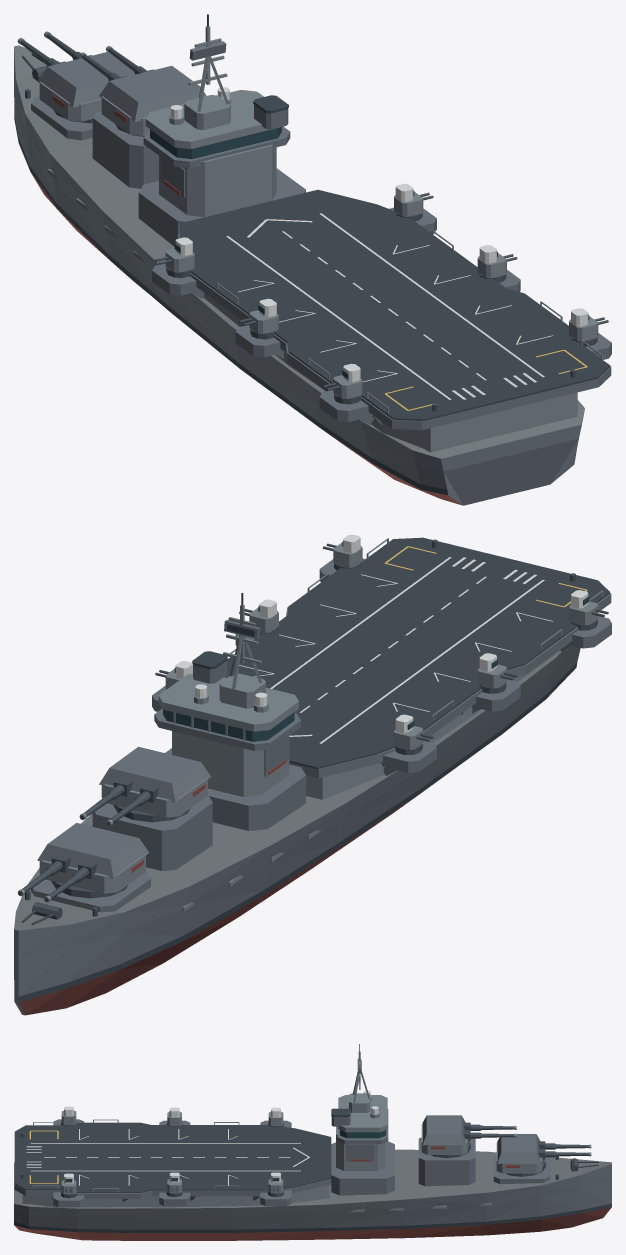
The model's file is EnemyHybridBoss.fbx.
3 renders of one model, top to bottom at view 1: azimuth 30°, elevation 25°; view 2: azimuth 150°, elevation 25°; view 3: azimuth 270°, elevation 25°, orthographic. The views are drawn at different scales.
Parts seen in each view (by area): view 1: FlightDeck_Mesh, Hull_Mesh, BridgeAssembly_Mesh, MainGun_02_Mesh, MainGun_01_Mesh, AA_Port_01_Mesh, AA_Port_02_Mesh, AA_Port_03_Mesh, AA_Starboard_01_Mesh, AA_Starboard_02_Mesh, AA_Starboard_03_Mesh; view 2: FlightDeck_Mesh, Hull_Mesh, BridgeAssembly_Mesh, MainGun_02_Mesh, MainGun_01_Mesh, MainGun_Elevation_01_Mesh, MainGun_Elevation_02_Mesh, AA_Port_02_Mesh, AA_Port_01_Mesh, AA_Port_03_Mesh, AA_Starboard_03_Mesh, AA_Starboard_02_Mesh; view 3: Hull_Mesh, FlightDeck_Mesh, BridgeAssembly_Mesh, MainGun_02_Mesh, MainGun_01_Mesh, MainGun_Elevation_01_Mesh, MainGun_Elevation_02_Mesh, AA_Starboard_03_Mesh, AA_Starboard_01_Mesh, AA_Starboard_02_Mesh.
Part boxes in pixels (x1=…): FlightDeck_Mesh: x1=152, y1=189, x2=611, y2=452; Hull_Mesh: x1=14, y1=45, x2=584, y2=505; BridgeAssembly_Mesh: x1=138, y1=14, x2=305, y2=246; MainGun_02_Mesh: x1=99, y1=66, x2=206, y2=135; MainGun_01_Mesh: x1=37, y1=52, x2=134, y2=121; AA_Port_01_Mesh: x1=165, y1=237, x2=194, y2=272; AA_Port_02_Mesh: x1=249, y1=298, x2=278, y2=333; AA_Port_03_Mesh: x1=333, y1=363, x2=362, y2=398; AA_Starboard_01_Mesh: x1=394, y1=183, x2=423, y2=216; AA_Starboard_02_Mesh: x1=477, y1=245, x2=506, y2=278; AA_Starboard_03_Mesh: x1=569, y1=308, x2=598, y2=341; FlightDeck_Mesh: x1=152, y1=537, x2=611, y2=799; Hull_Mesh: x1=14, y1=539, x2=580, y2=1015; BridgeAssembly_Mesh: x1=154, y1=593, x2=305, y2=830; MainGun_02_Mesh: x1=99, y1=746, x2=211, y2=817; MainGun_01_Mesh: x1=37, y1=823, x2=149, y2=893; MainGun_Elevation_01_Mesh: x1=17, y1=854, x2=96, y2=902; MainGun_Elevation_02_Mesh: x1=79, y1=778, x2=158, y2=826; AA_Port_02_Mesh: x1=477, y1=653, x2=506, y2=688; AA_Port_01_Mesh: x1=394, y1=714, x2=423, y2=749; AA_Port_03_Mesh: x1=569, y1=590, x2=598, y2=625; AA_Starboard_03_Mesh: x1=333, y1=534, x2=362, y2=567; AA_Starboard_02_Mesh: x1=249, y1=599, x2=278, y2=632; Hull_Mesh: x1=14, y1=1132, x2=611, y2=1240; FlightDeck_Mesh: x1=14, y1=1119, x2=331, y2=1209; BridgeAssembly_Mesh: x1=331, y1=1044, x2=394, y2=1195; MainGun_02_Mesh: x1=421, y1=1115, x2=467, y2=1154; MainGun_01_Mesh: x1=496, y1=1134, x2=542, y2=1173; MainGun_Elevation_01_Mesh: x1=538, y1=1141, x2=591, y2=1159; MainGun_Elevation_02_Mesh: x1=463, y1=1122, x2=516, y2=1140; AA_Starboard_03_Mesh: x1=61, y1=1173, x2=76, y2=1194; AA_Starboard_01_Mesh: x1=268, y1=1172, x2=283, y2=1193; AA_Starboard_02_Mesh: x1=167, y1=1172, x2=181, y2=1193.
Size of the model in its own units: 524 by 512 by 1600.
